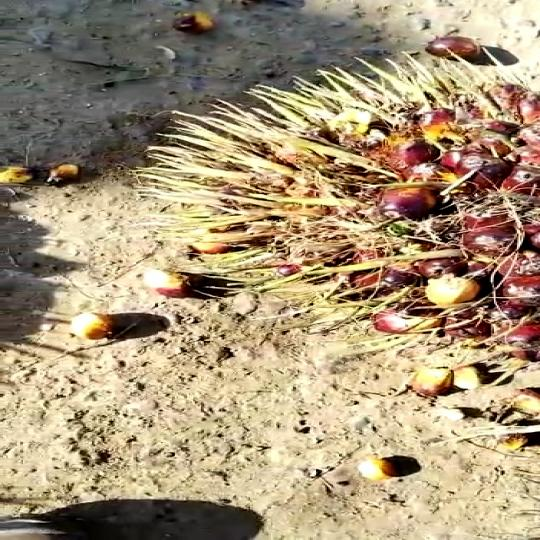masak: (120, 61, 540, 359)
